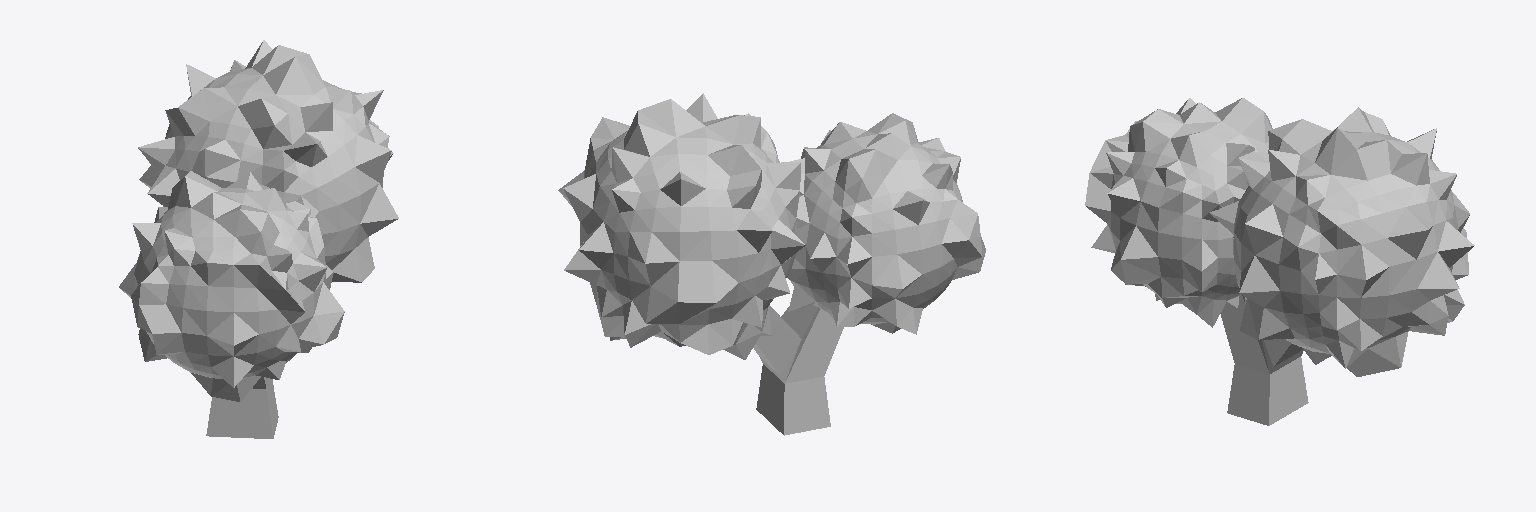
File: Drzewko.obj
3 views of the same model, side by side, from view 1: azimuth 30°, elevation 25°; view 2: azimuth 150°, elevation 25°; view 3: azimuth 270°, elevation 25° (orthographic).
Parts seen in each view (by area): view 1: Tree_Untitled.004; view 2: Tree_Untitled.004; view 3: Tree_Untitled.004.
Boxes of the visible parts, x1=… form: Tree_Untitled.004: x1=119, y1=40, x2=398, y2=438; Tree_Untitled.004: x1=558, y1=93, x2=985, y2=435; Tree_Untitled.004: x1=1085, y1=98, x2=1474, y2=425.
Bounding box in the file's own units: 0.4555 × 0.4227 × 0.4619.